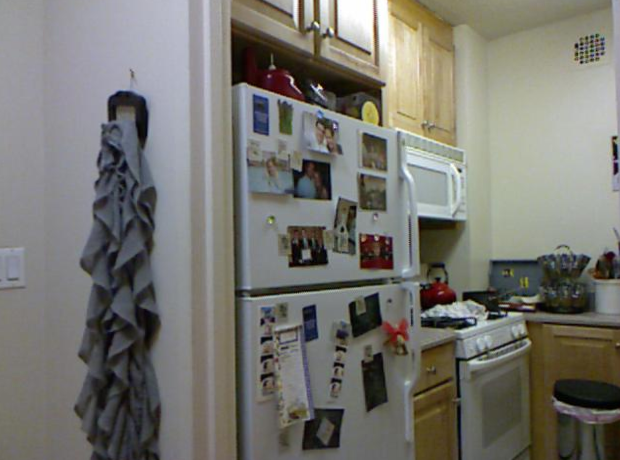cabinetDoor: (542, 326, 620, 382), (317, 0, 379, 63), (395, 21, 427, 130), (428, 30, 459, 139), (232, 0, 315, 37), (422, 392, 457, 460), (425, 351, 450, 381)
refrigeratorDoor: (245, 283, 418, 460), (245, 132, 404, 289)
